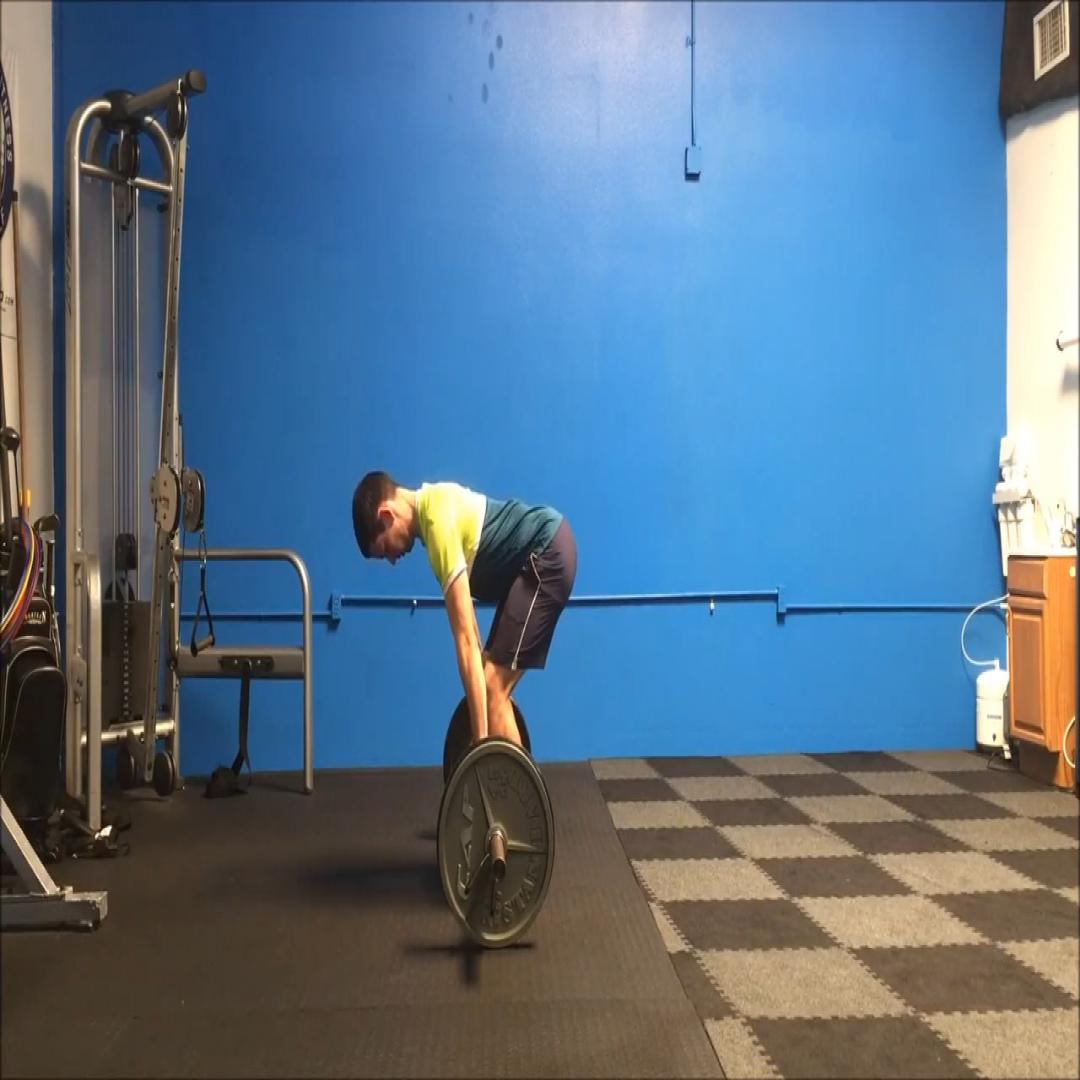Bar: (490, 855, 508, 883)
Barbell: (436, 736, 555, 946)
